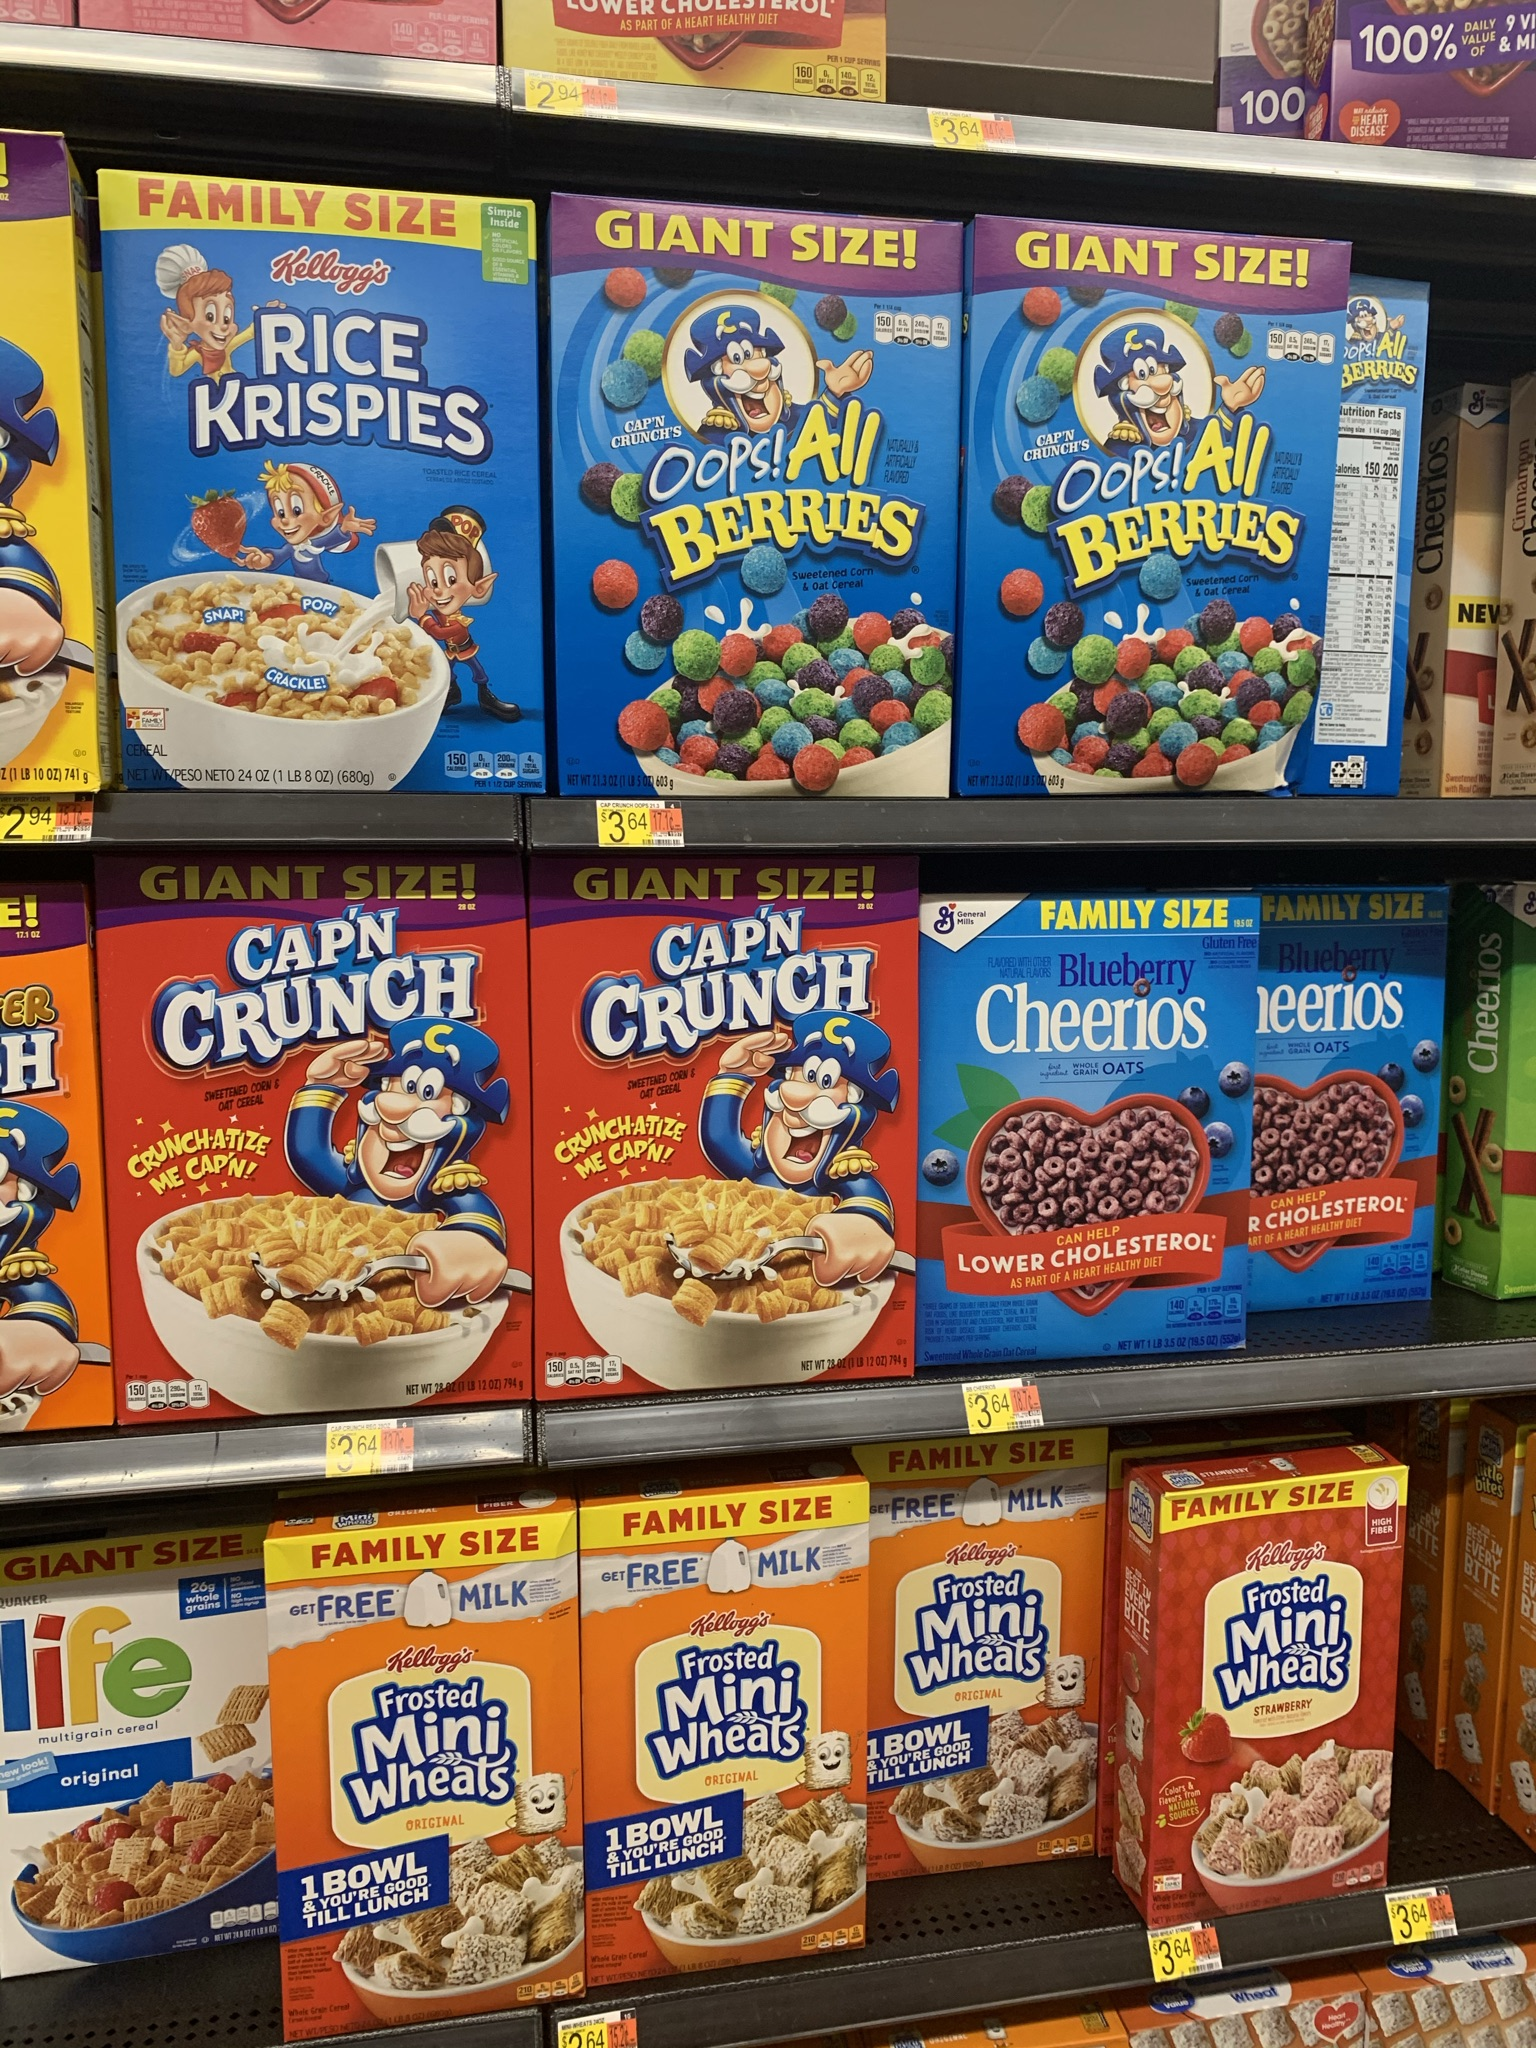Cereal: (98, 198, 544, 787), (87, 855, 532, 1422), (549, 210, 958, 797), (520, 858, 925, 1395), (916, 885, 1265, 1358)
